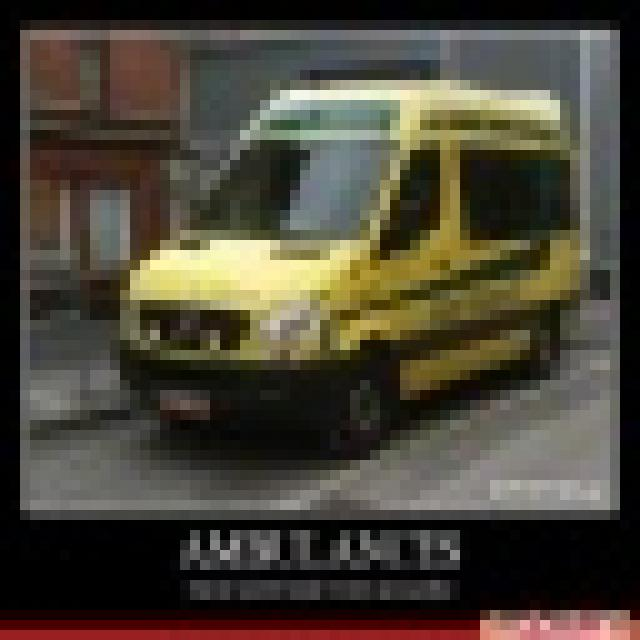Ambulance: (110, 70, 580, 450)
